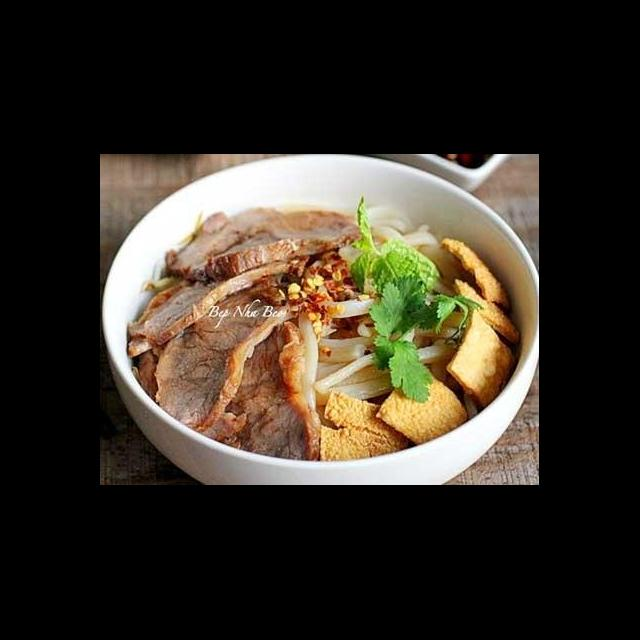banh da: (316, 388, 422, 466), (444, 304, 518, 410), (372, 369, 469, 448), (438, 236, 514, 308), (451, 276, 522, 344)
mi: (292, 288, 470, 436), (336, 200, 466, 298)
mi quang: (103, 179, 540, 486)
thit heo: (150, 276, 312, 436), (124, 250, 314, 362), (162, 202, 368, 284), (216, 310, 324, 466)
